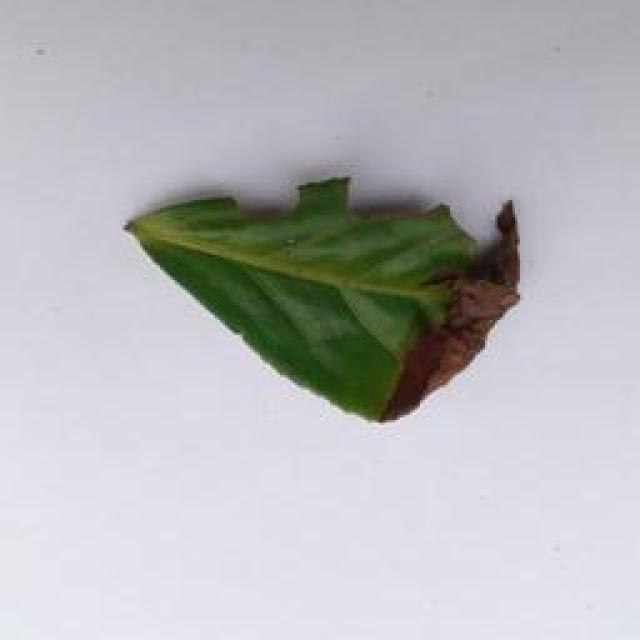Brown Blight: (126, 147, 533, 451)
